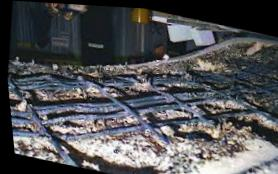damage: (6, 36, 278, 174)
